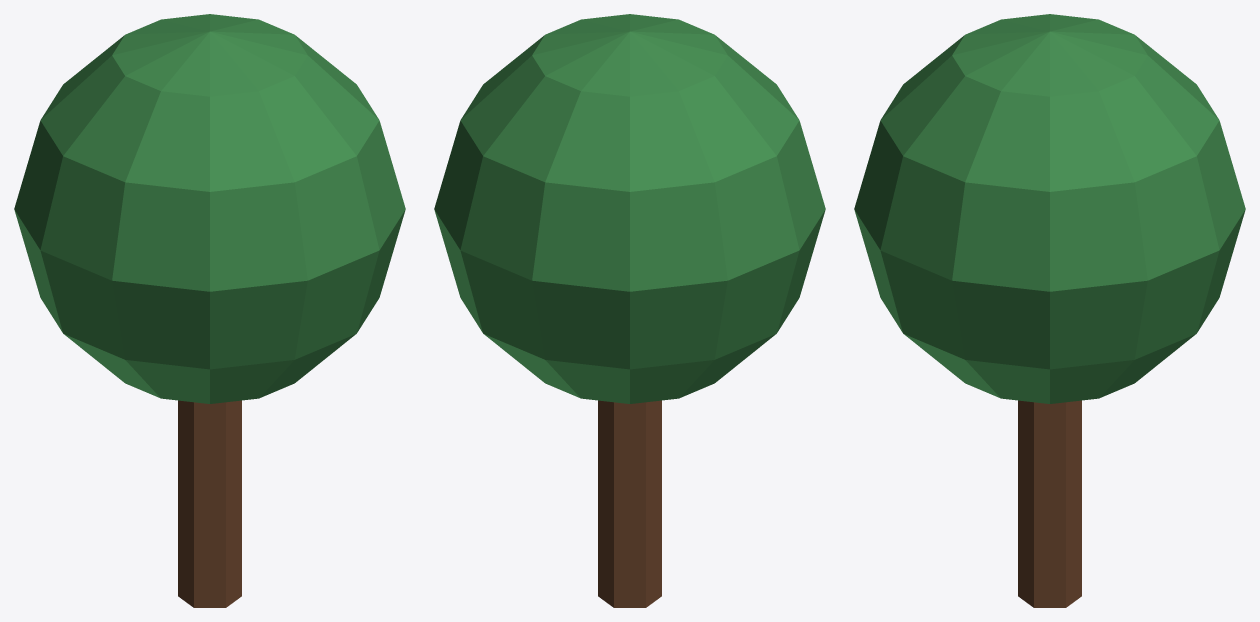
Rendered from tree_green.glb.
3 renders of one model, left to right at view 1: azimuth 30°, elevation 25°; view 2: azimuth 150°, elevation 25°; view 3: azimuth 270°, elevation 25°, orthographic.
Parts seen in each view (by area): view 1: tree_green; view 2: tree_green; view 3: tree_green.
Boxes of the visible parts, box(x1,y1,x2,y2) form: tree_green: box(14, 14, 405, 607); tree_green: box(434, 14, 825, 607); tree_green: box(854, 14, 1245, 607).
Bounding box in the file's own units: 0.22 × 0.35 × 0.22.
